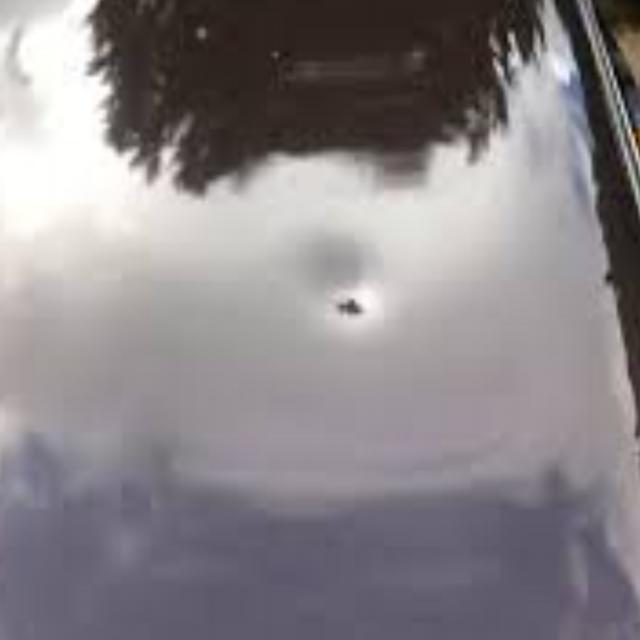dents: (292, 214, 396, 353)
